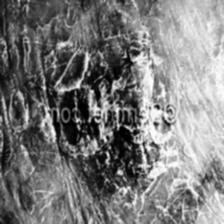Potentially Malignant Skin Tumors: (108, 46, 158, 108), (0, 86, 32, 144)
